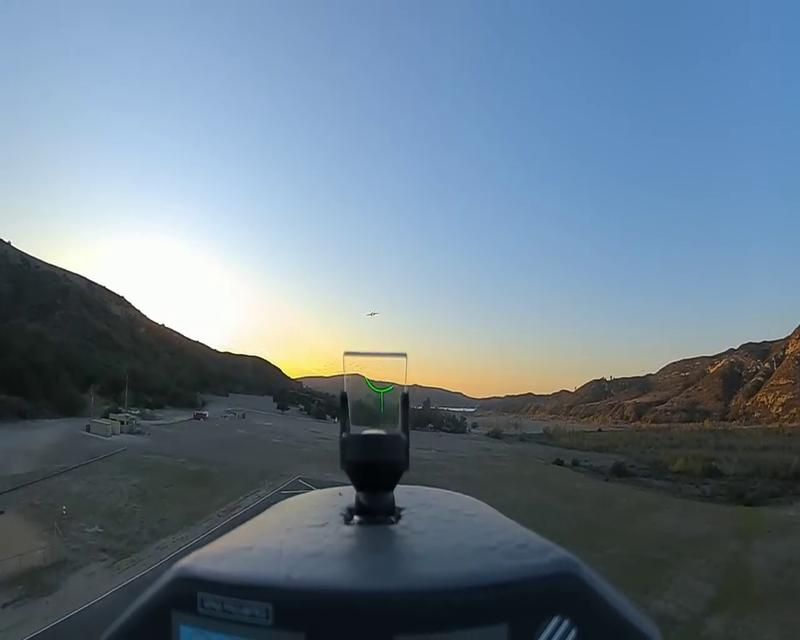UAV: (366, 310, 380, 318)
